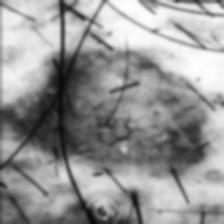Potentially Malignant Skin Tumors: (37, 36, 202, 182)
